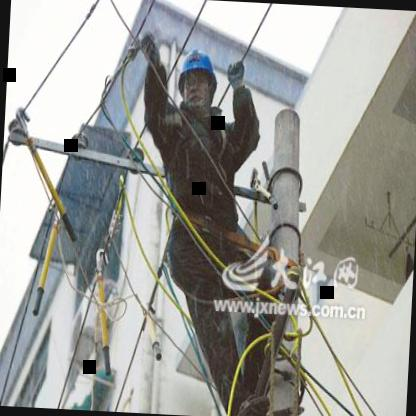helmet: (170, 40, 226, 119)
